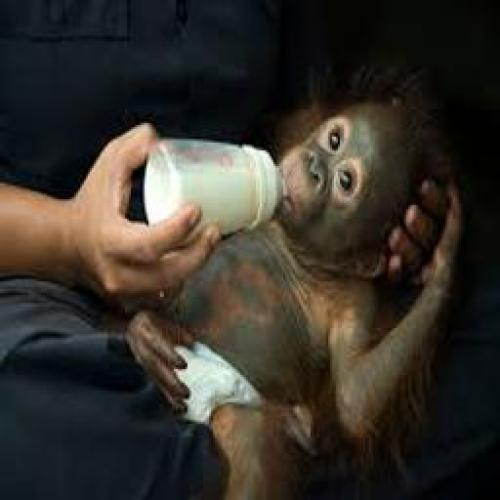orangutan-endangered: (134, 74, 463, 482)
